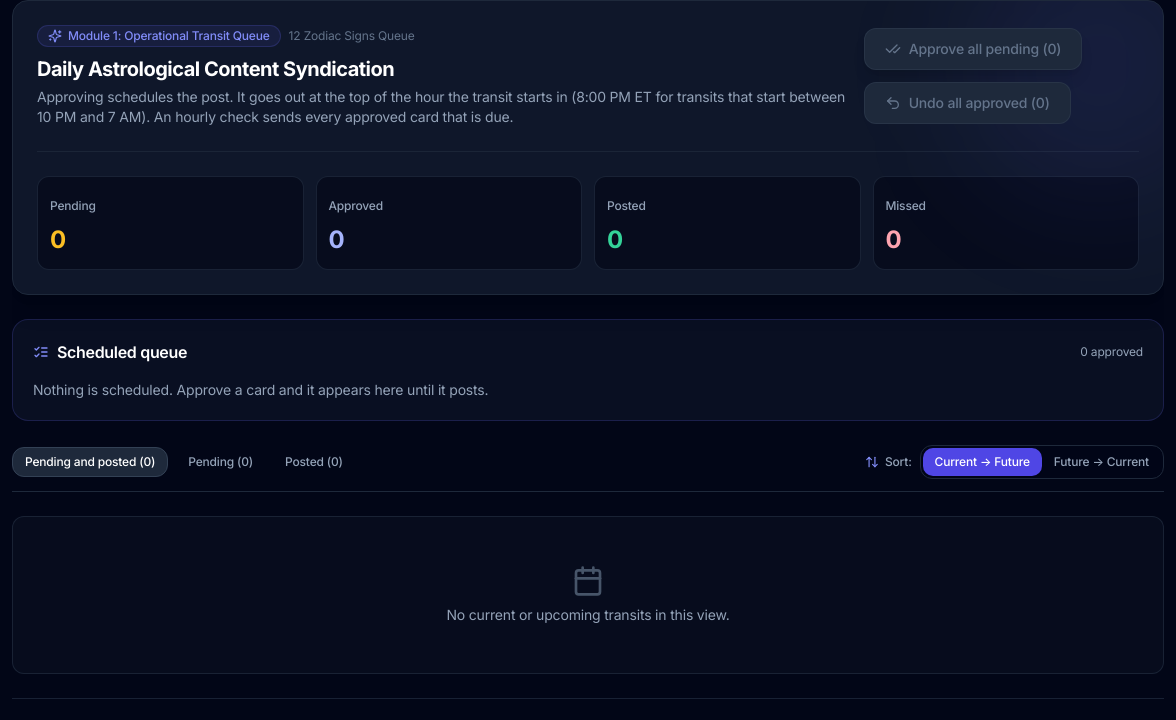
TransitReviewPanel - Sorting & Filtering Controls › toggles sort selection to "Future → Current", updates active state, and persists to sessionStorage
Click the button "Future → Current".
click(1101, 462)  # box x1=1042 y1=448 x2=1161 y2=476
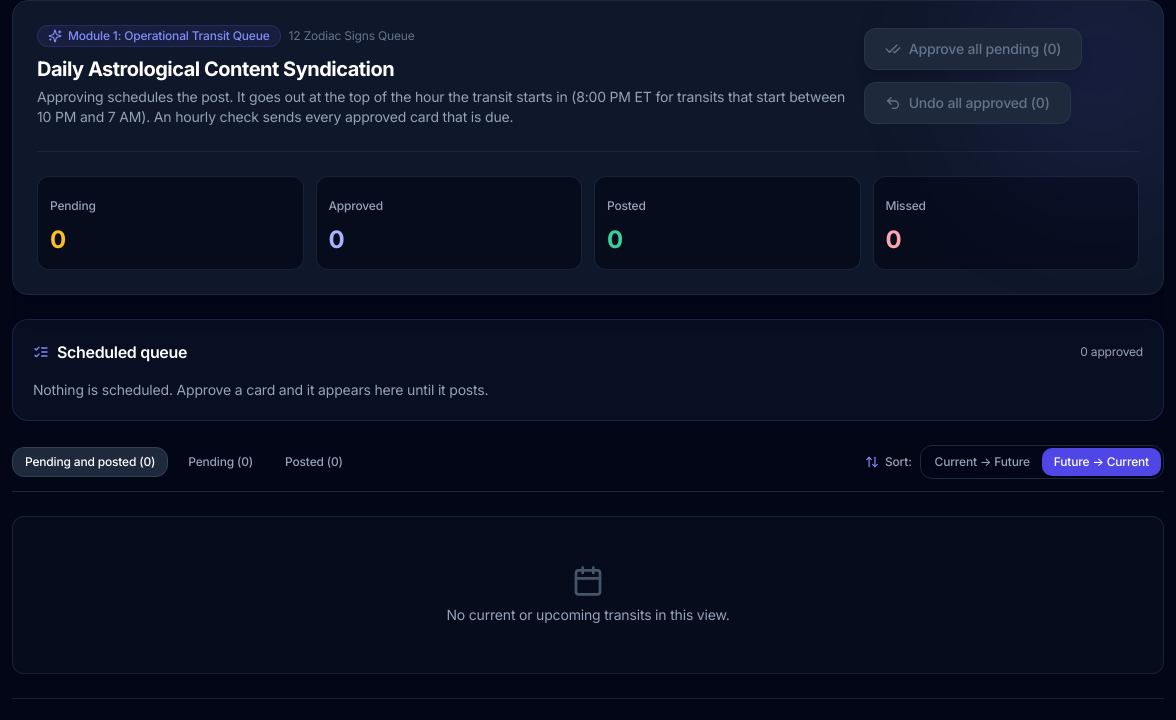
Expected: the button "Future → Current" is pressed, x1=1042 y1=448 x2=1161 y2=476
